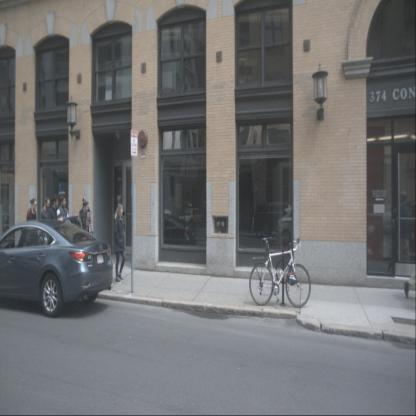human-pedestrian-adult: (57, 214, 83, 288), (392, 191, 413, 281), (114, 204, 127, 285), (56, 194, 69, 271), (78, 197, 90, 274), (47, 195, 60, 266), (27, 198, 38, 272), (40, 197, 51, 269)
vehicle-bicycle: (249, 233, 312, 309)
vehicle-car: (0, 219, 113, 320), (141, 212, 196, 249), (277, 205, 322, 246), (255, 200, 306, 236), (178, 203, 203, 227)
